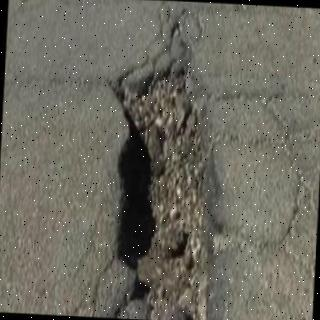pothole: (110, 21, 225, 320)
